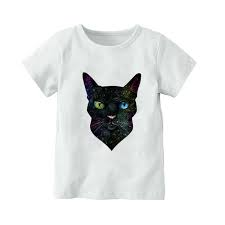cat: (78, 71, 147, 130)
